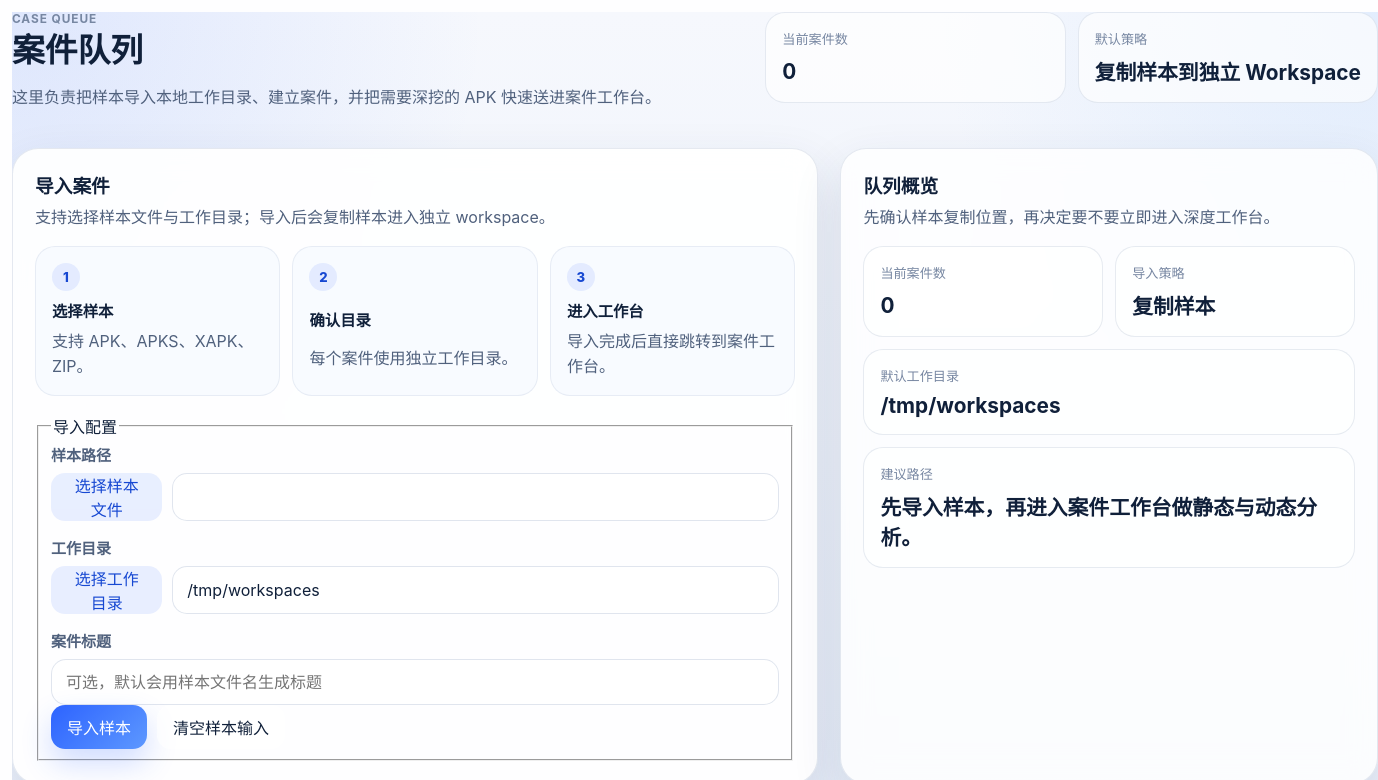
CaseQueuePage › fills the workspace root from the native chooser when available
Click the button "选择工作目录". click: (107, 590)
box: x1=51 y1=566 x2=162 y2=614
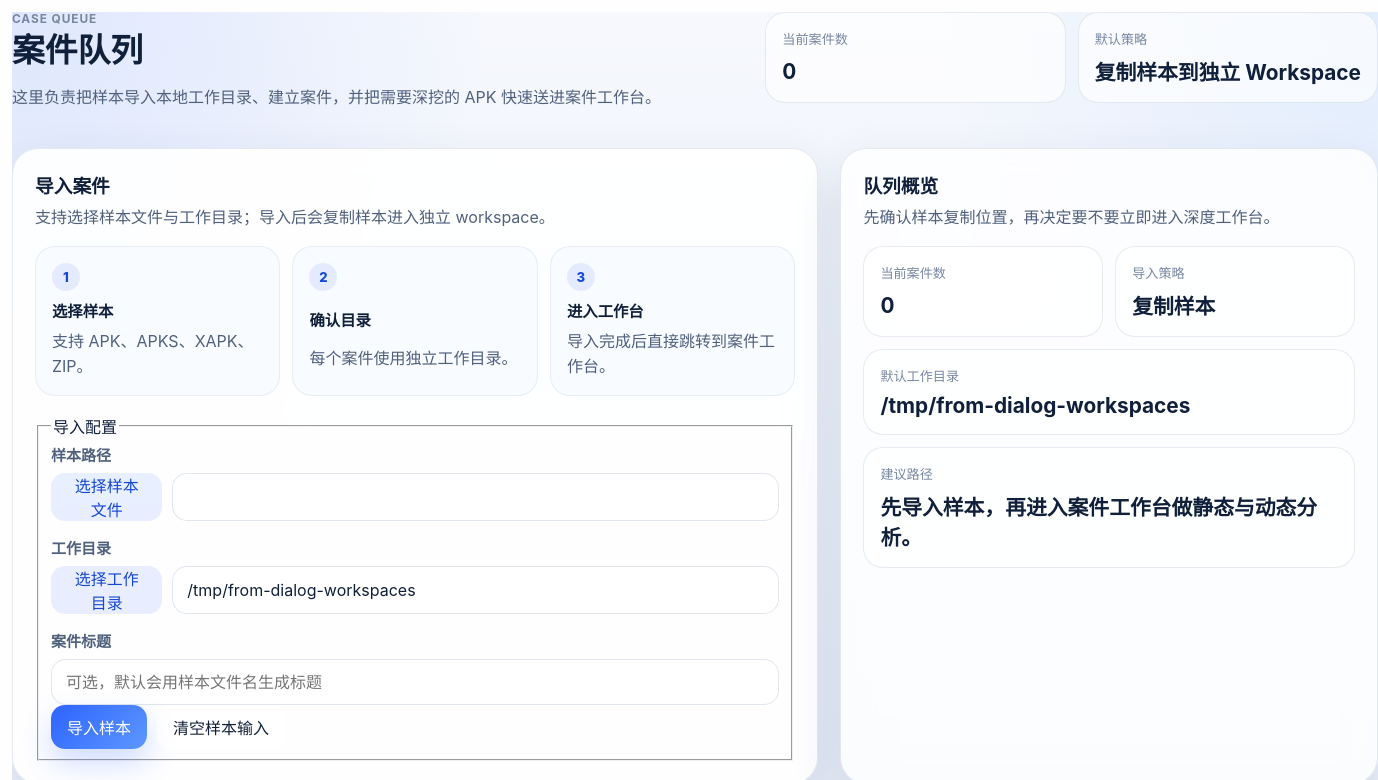
Expected: the field labelled "工作目录" holds "/tmp/from-dialog-workspaces", x1=172 y1=566 x2=779 y2=614
